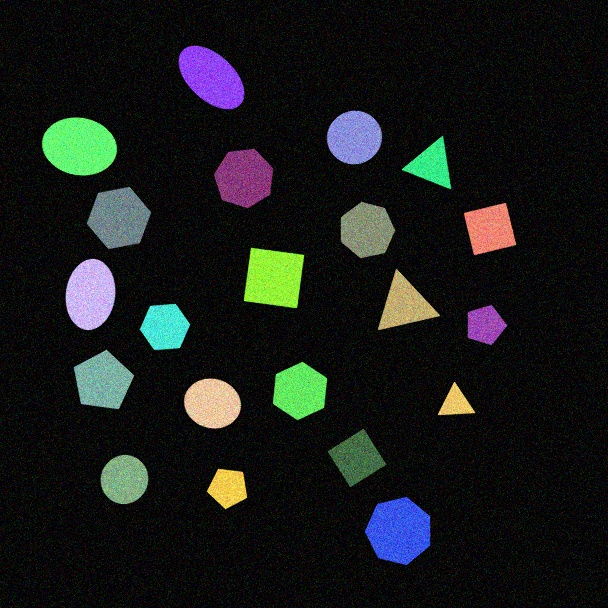Circulo: (326, 110, 383, 165), (183, 378, 242, 429), (100, 454, 149, 505)
Elipse: (41, 117, 118, 176), (178, 45, 245, 110), (65, 258, 116, 331)
Heptagono: (364, 496, 431, 566), (213, 148, 274, 209), (340, 201, 396, 259)
Hexagono: (86, 186, 152, 250), (272, 361, 328, 421), (139, 303, 191, 351)
Pentagono: (73, 349, 135, 410), (206, 468, 248, 510), (467, 304, 508, 346)
Quadrado: (243, 247, 305, 309), (327, 428, 387, 488), (463, 202, 517, 256)
Triangulo: (377, 269, 441, 331), (402, 135, 452, 190), (437, 382, 476, 416)
